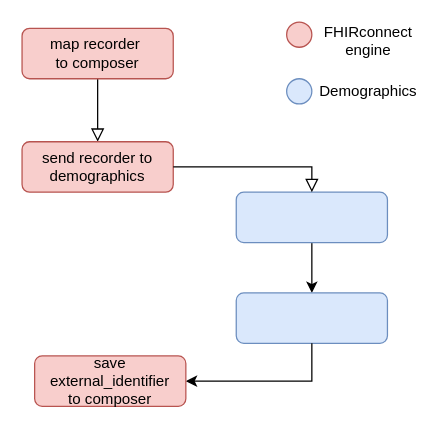
Image size: 447x430. Some labels were removed from this diagram. The shapes that lost their labels are listed below. From the top down, each one's centre as x and y in pixels, then its label:
At point 311,217: "demographic saves recorder".
At point 311,317: "returns recorders demographic ID".
